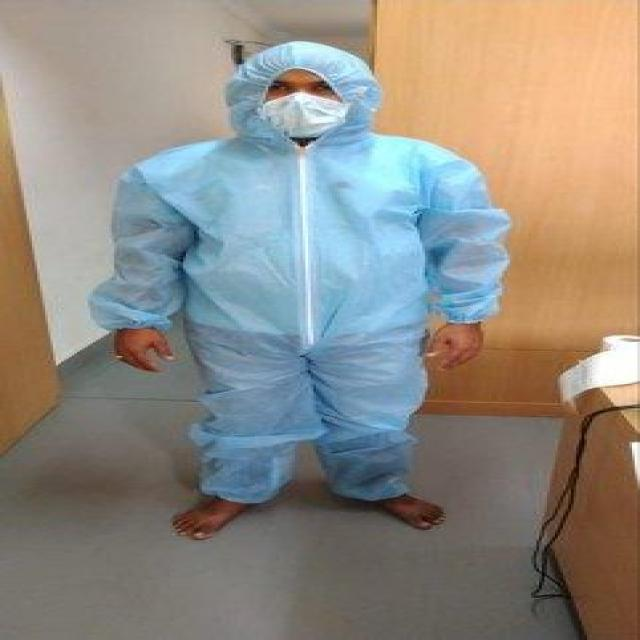Coverall: (77, 29, 523, 543)
Mask: (250, 91, 348, 138)
